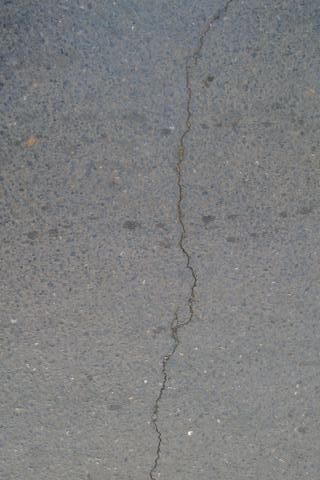A: (145, 2, 236, 480)
